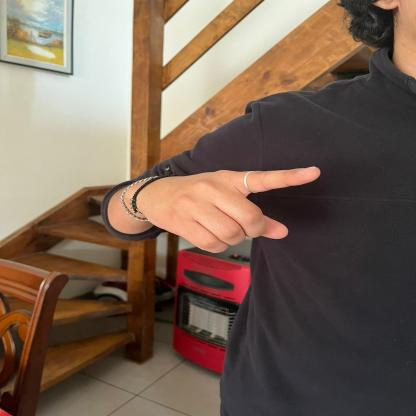S: (136, 160, 323, 256)
